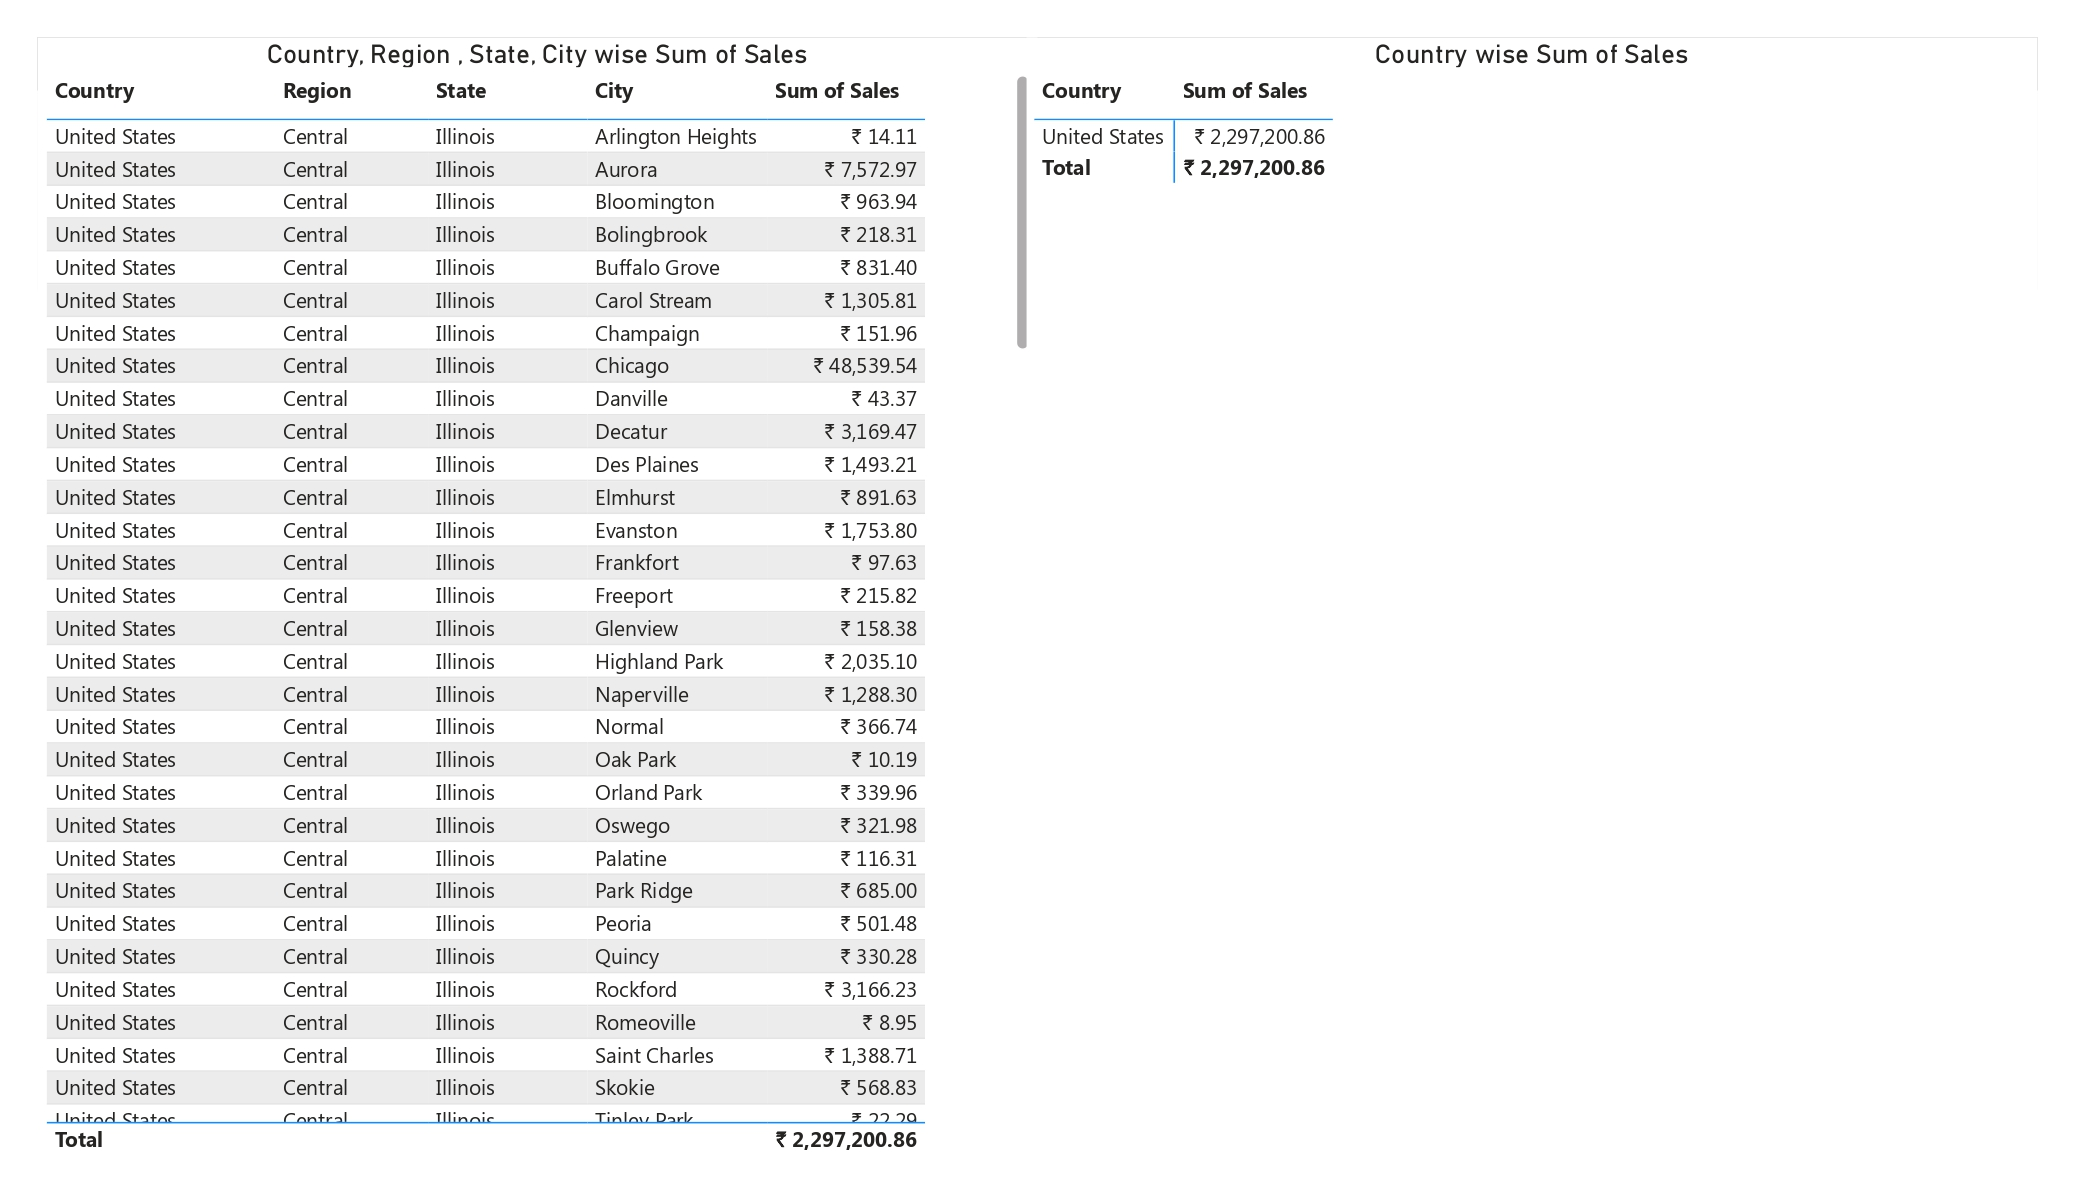

The dashboard page shown, as its layout file describes it:
{"tool":"powerbi","page":{"name":"Page 5","canvas":[1280,720],"ordinal":4},"visuals":[{"type":"tableEx","title":" Country, Region  , State, City wise Sum of Sales","fields":{"Values":["Orders.Country","Orders.Region","Orders.State","Orders.City","Sum(Orders.Sales)"]},"box":[0,0,640,720],"z":0},{"type":"pivotTable","title":"Country wise Sum of Sales ","fields":{"Rows":["Orders.Country"],"Values":["Sum(Orders.Sales)"]},"box":[632.7,0,647.3,720],"z":1000}]}

Visuals, with their boxes on the page's 1280x720 design canvas (x1, y1, x2, y2). These are canvas units, not pixel positions in the 2075x1200 screenshot, which may show the page scaled, cropped or inside an application window:
" Country, Region  , State, City wise Sum of Sales" tableEx: crop(0, 0, 640, 720)
"Country wise Sum of Sales " pivotTable: crop(633, 0, 1280, 720)
